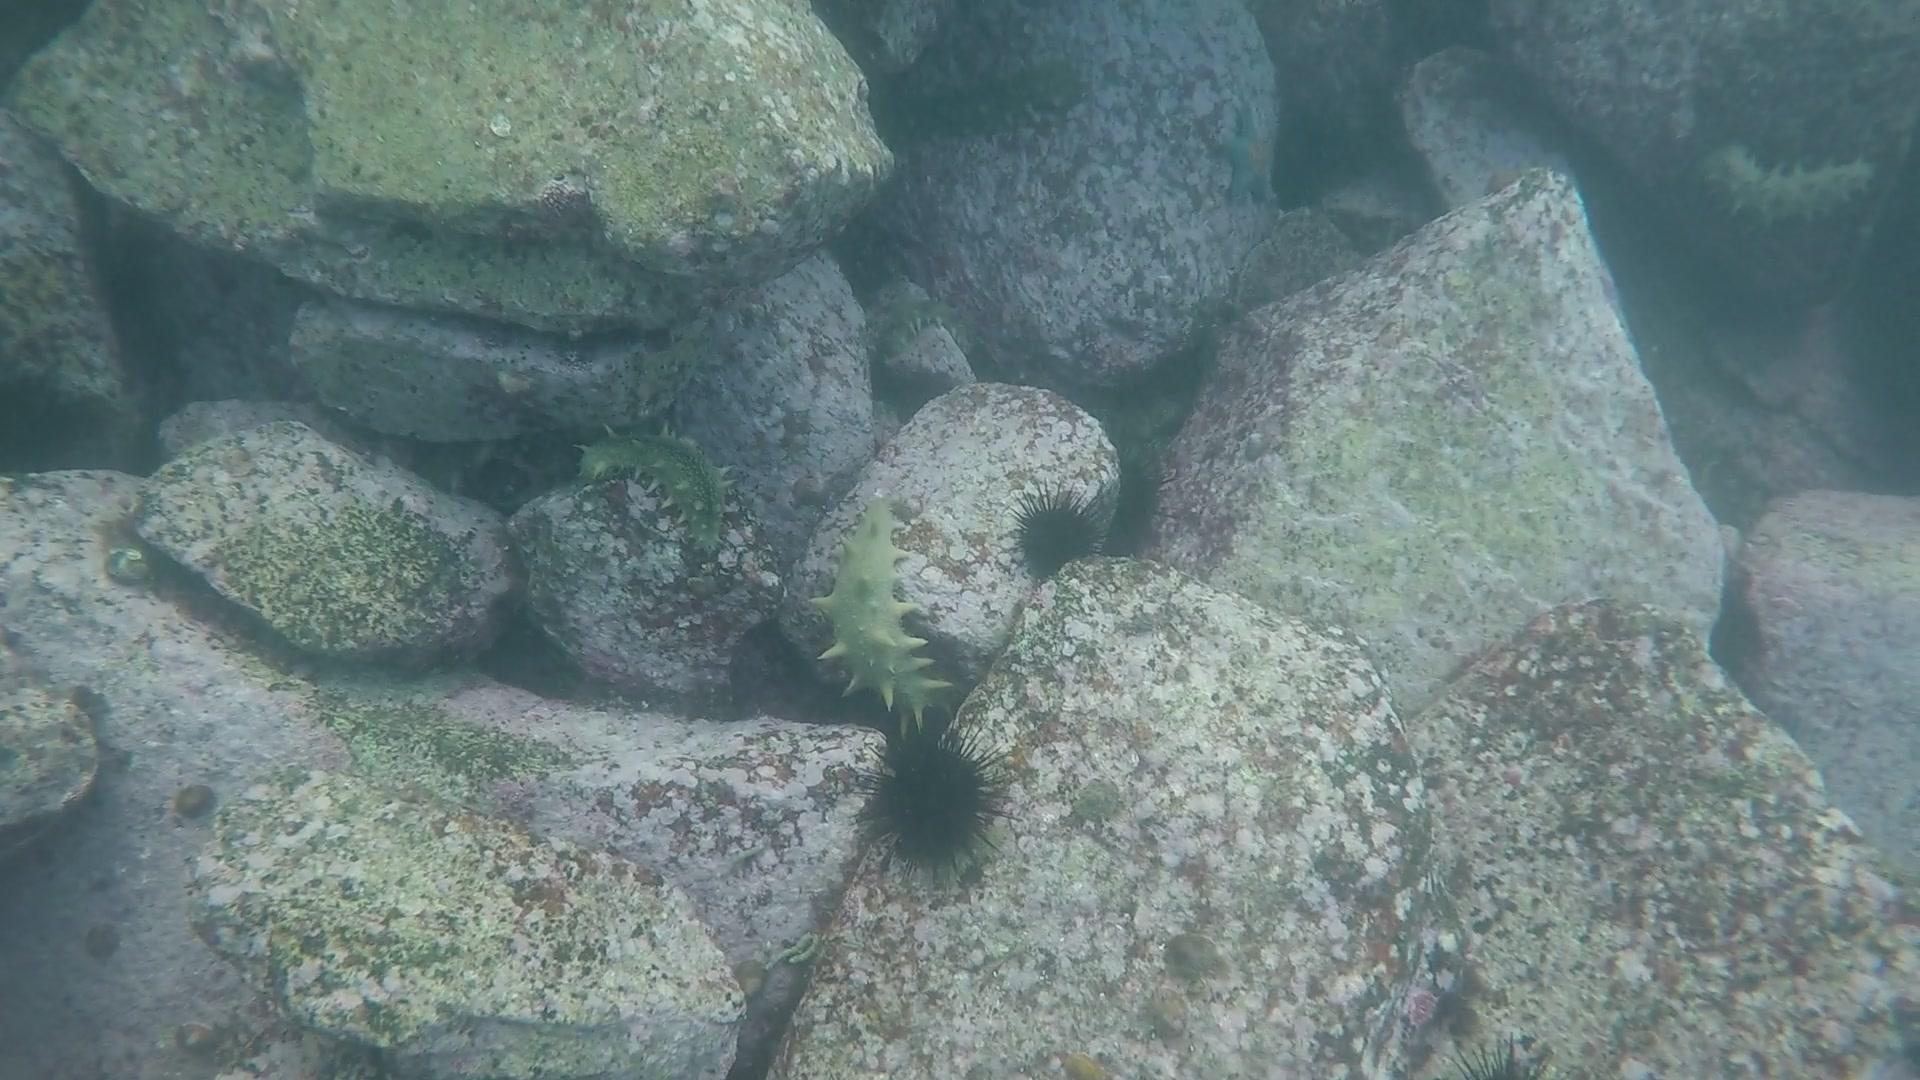echinus: (851, 723, 1026, 884), (1004, 485, 1124, 592)
holothurian: (808, 495, 953, 742), (571, 423, 742, 556), (885, 53, 1108, 142), (1697, 137, 1880, 232), (868, 287, 992, 367)
